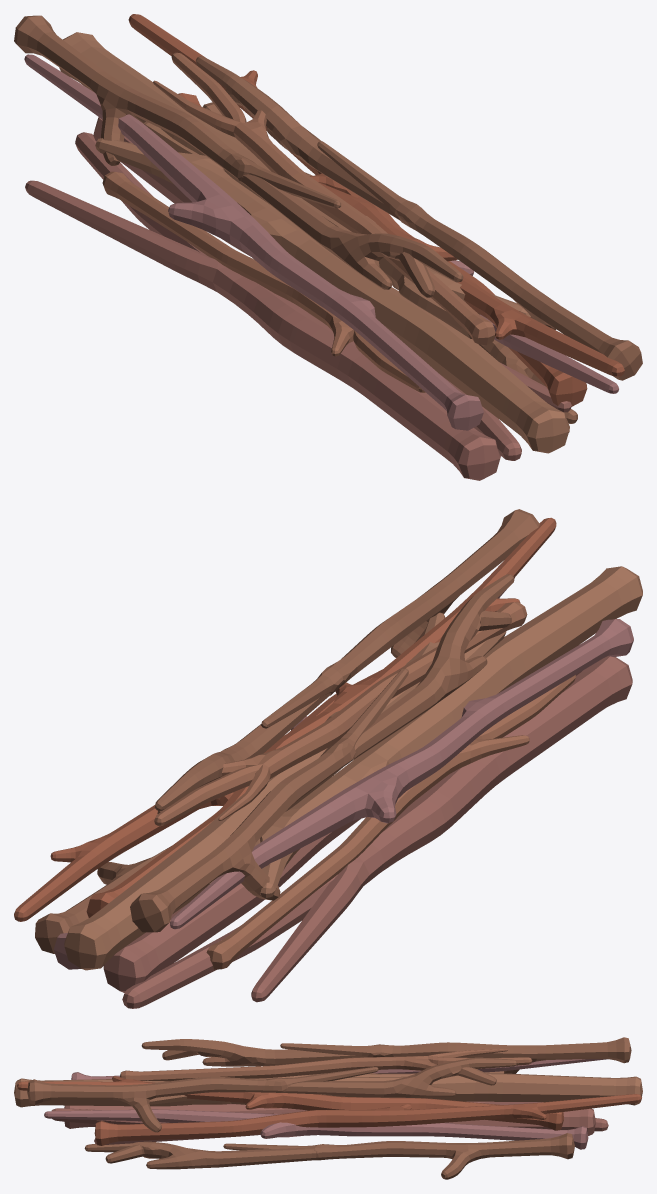
The model's file is sticks.fbx.
The picture shows the model from 3 angles, top to bottom: view 1: azimuth 30°, elevation 25°; view 2: azimuth 150°, elevation 25°; view 3: azimuth 270°, elevation 25°; orthographic projection. The views are drawn at different scales.
Parts seen in each view (by area): view 1: Plane.018; view 2: Plane.018; view 3: Plane.018.
Part boxes in pixels (x1,y1,x2,y2): Plane.018: (14, 14, 642, 480); Plane.018: (14, 509, 642, 1008); Plane.018: (14, 1037, 642, 1179).
Size of the model in its own units: 203 by 123 by 707.
